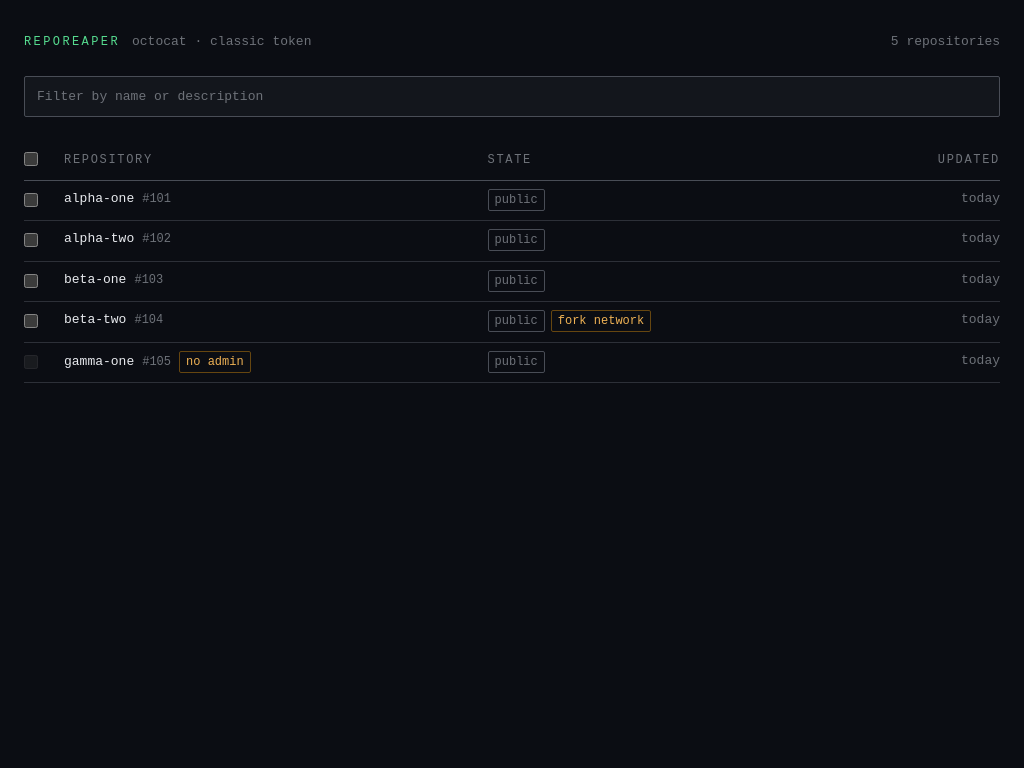
Test: confirmation gate › warns that fork-network repositories cannot be restored
Click the checkbox named "Select beta-two" at (31, 321), box [24, 314, 38, 328]
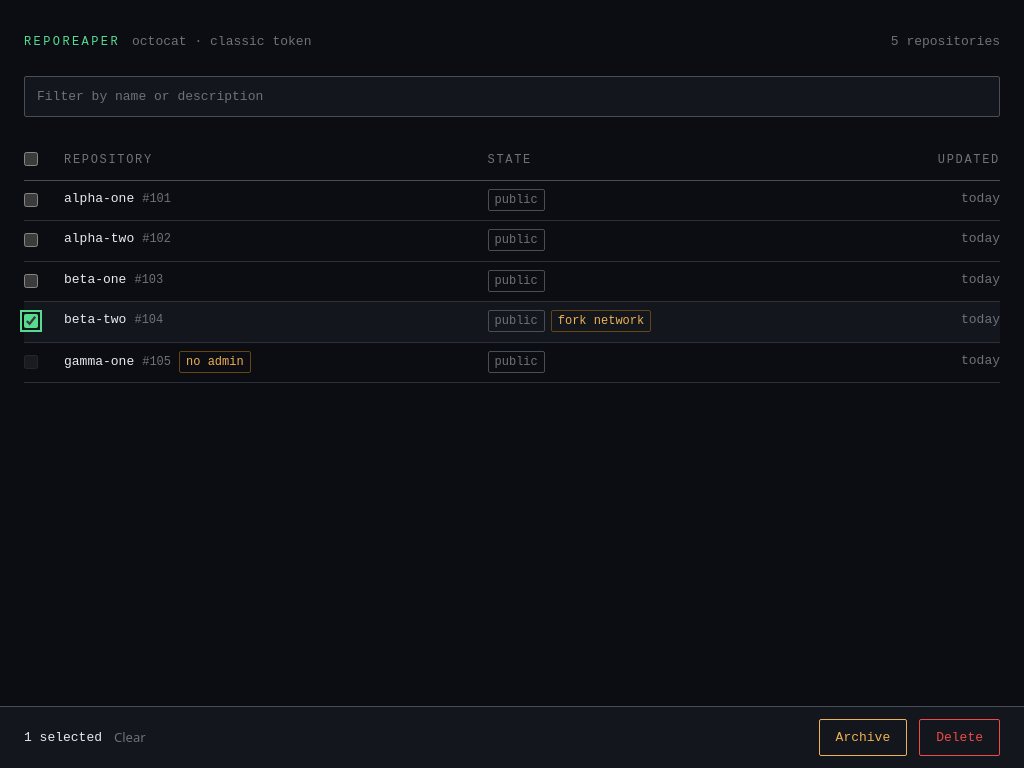
Click the button "Delete" at (960, 737), box [919, 718, 1000, 756]
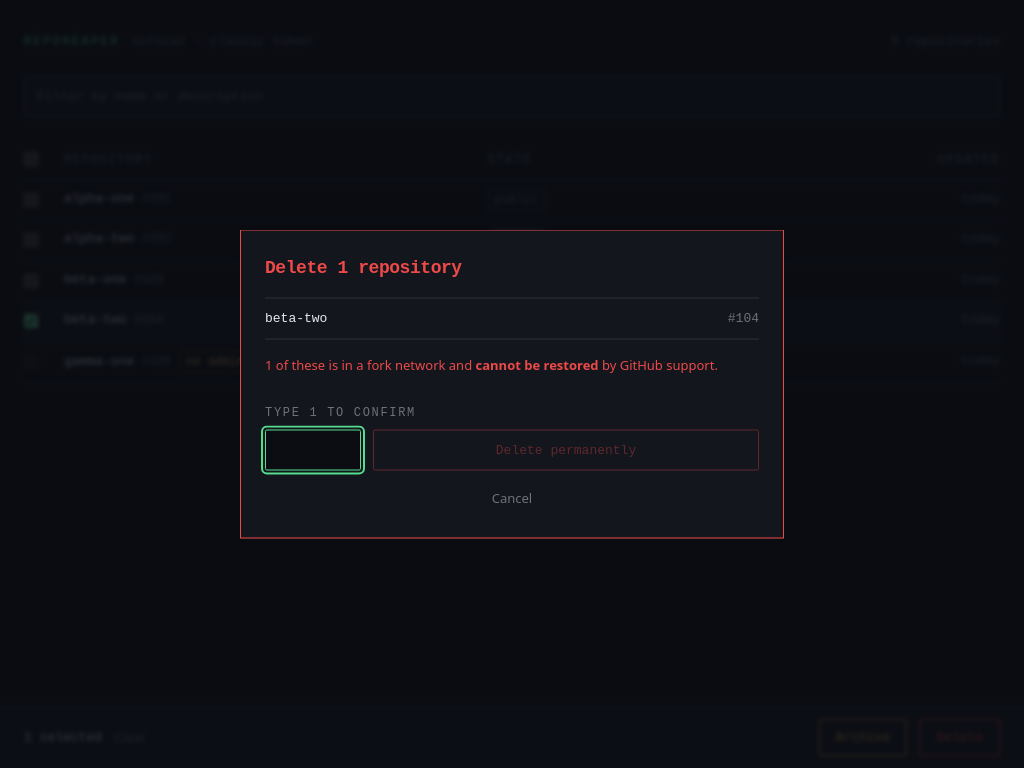
Now the text "cannot be restored" is shown, box [476, 355, 598, 373]
